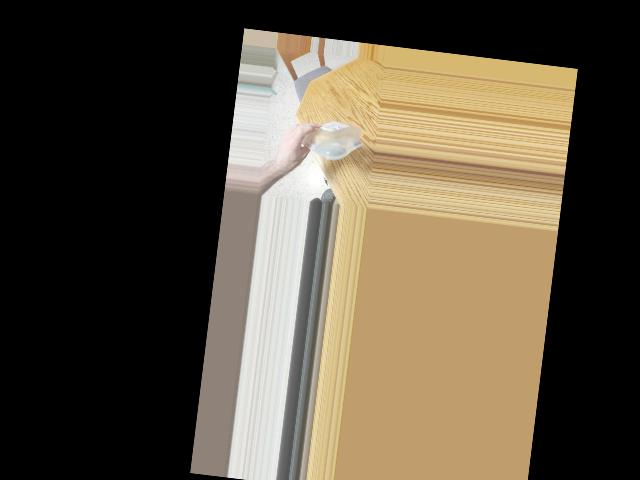cheese: (288, 114, 364, 160)
